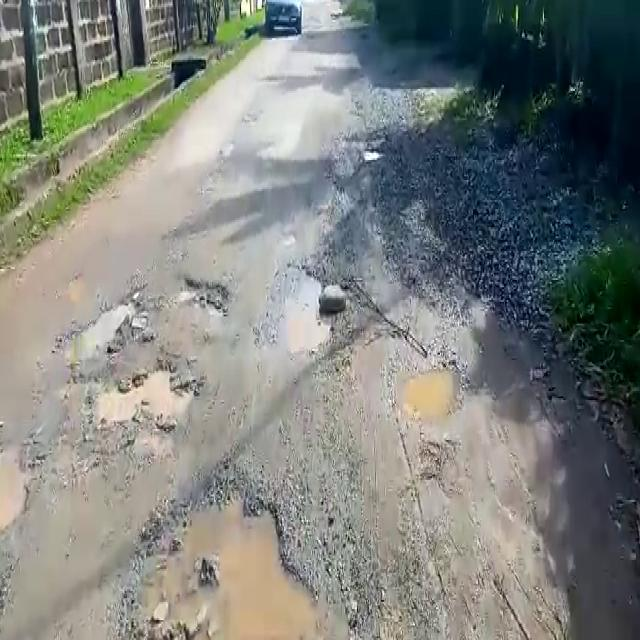Pothole: (130, 485, 358, 640), (86, 351, 202, 428), (56, 282, 146, 376), (262, 263, 333, 353), (391, 362, 462, 428), (0, 440, 33, 533), (175, 274, 232, 314)
